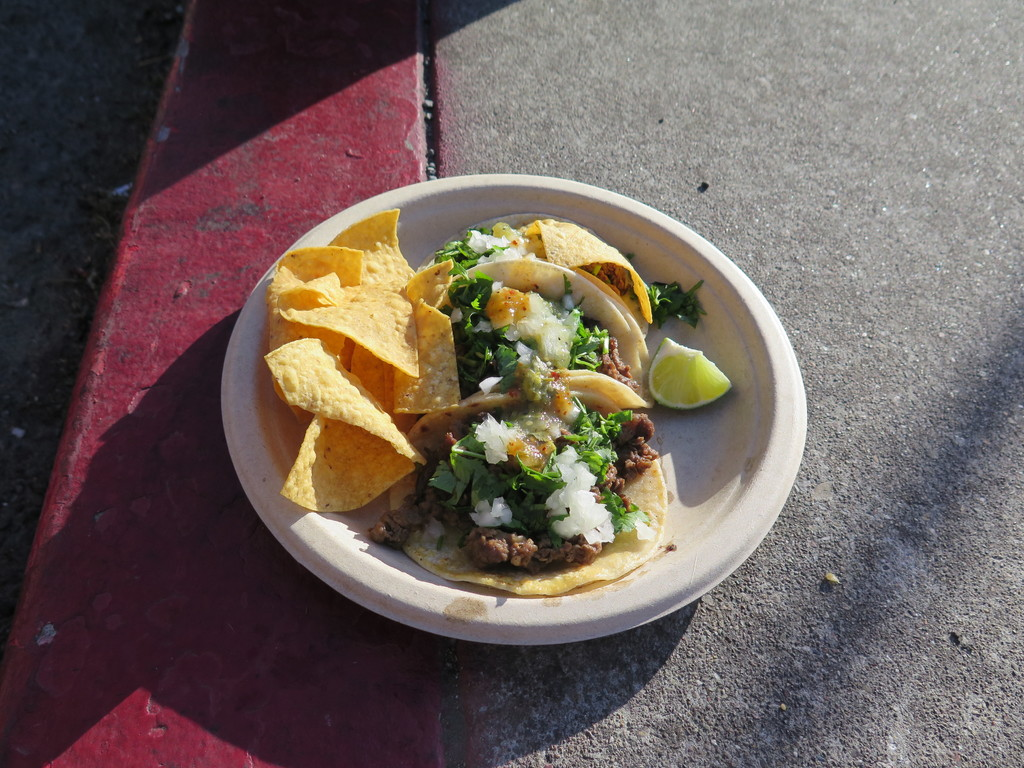taco: (372, 375, 668, 597), (407, 264, 636, 399), (461, 220, 650, 344)
